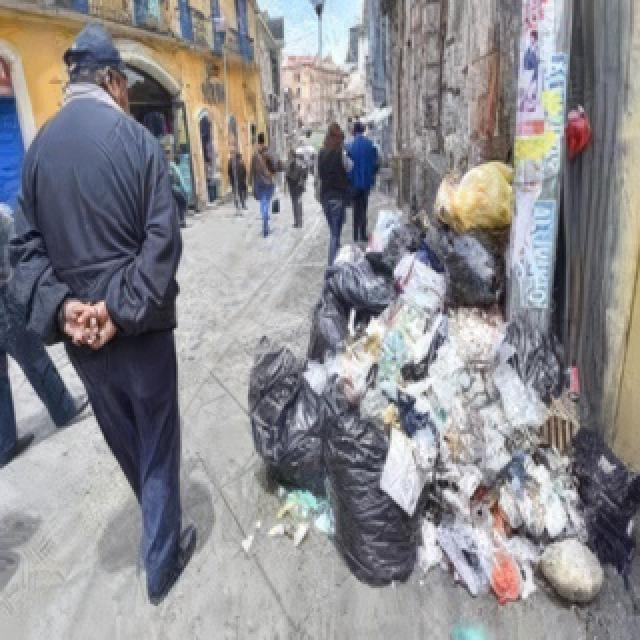high trash: (250, 161, 640, 608)
